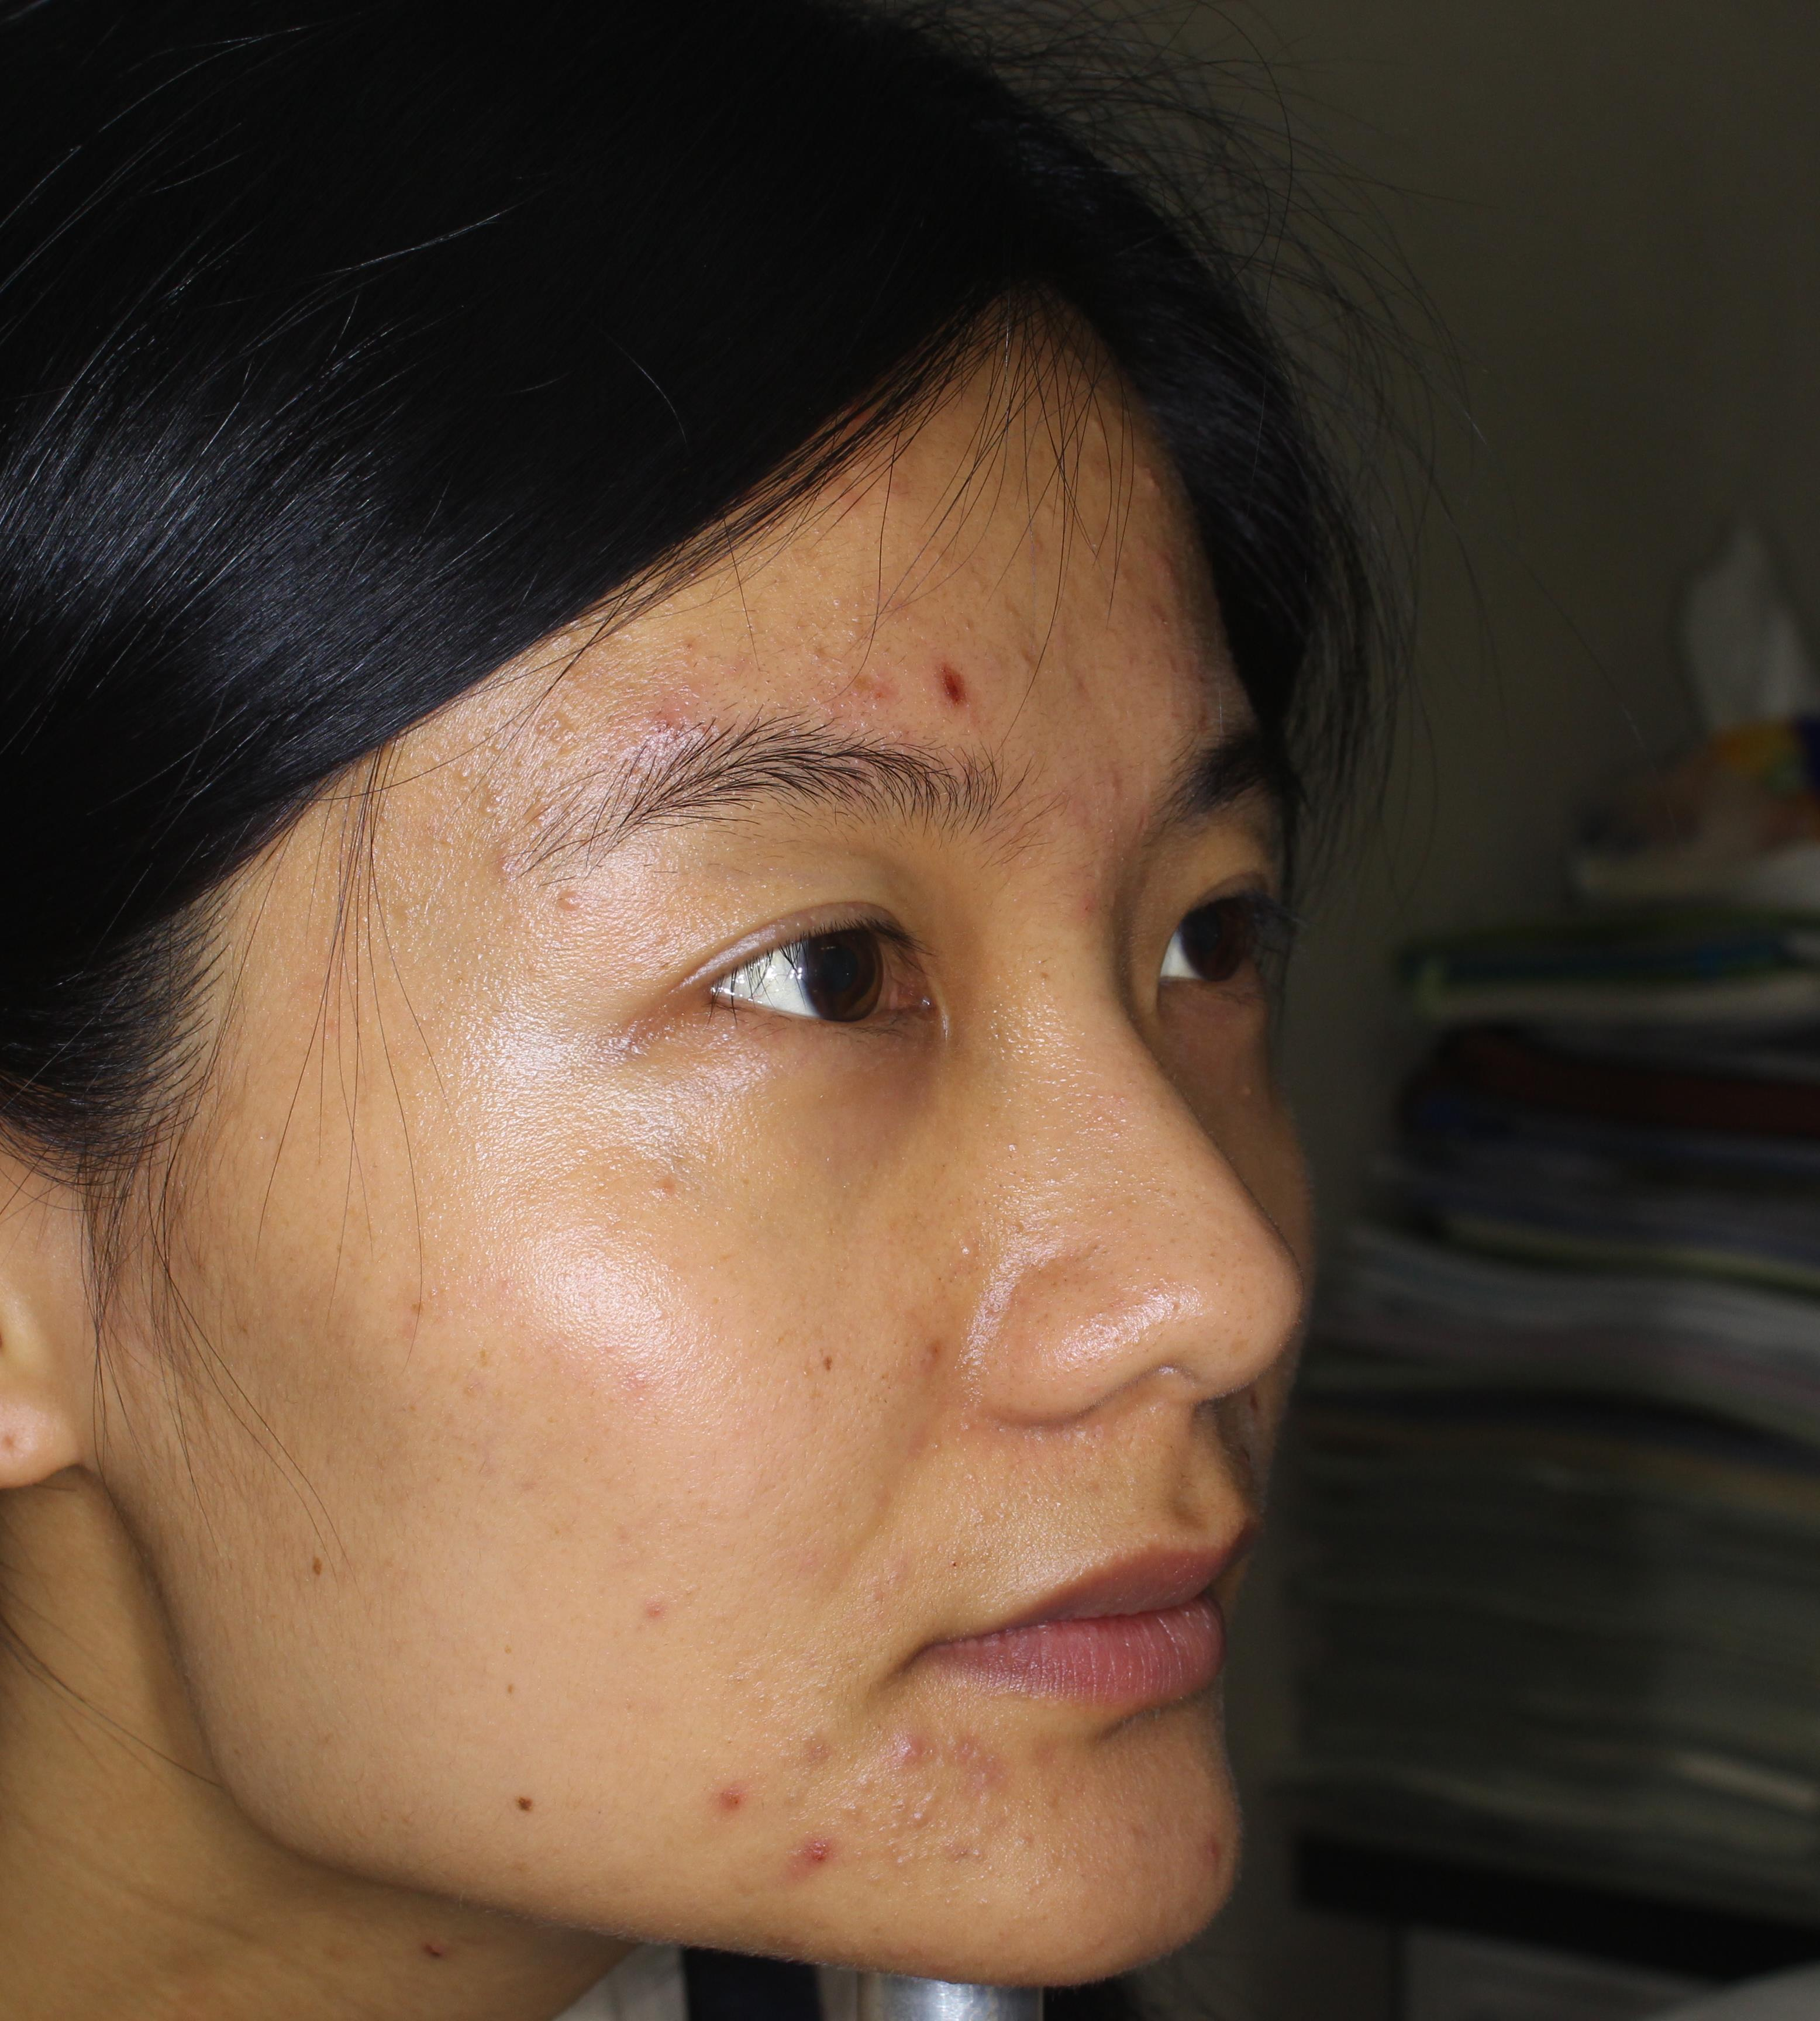fore: (453, 809, 557, 904), (1161, 1817, 1265, 1895), (759, 1823, 840, 1907), (910, 644, 991, 716), (880, 1715, 947, 1791), (629, 688, 704, 746), (834, 644, 889, 716), (682, 1768, 731, 1831)
